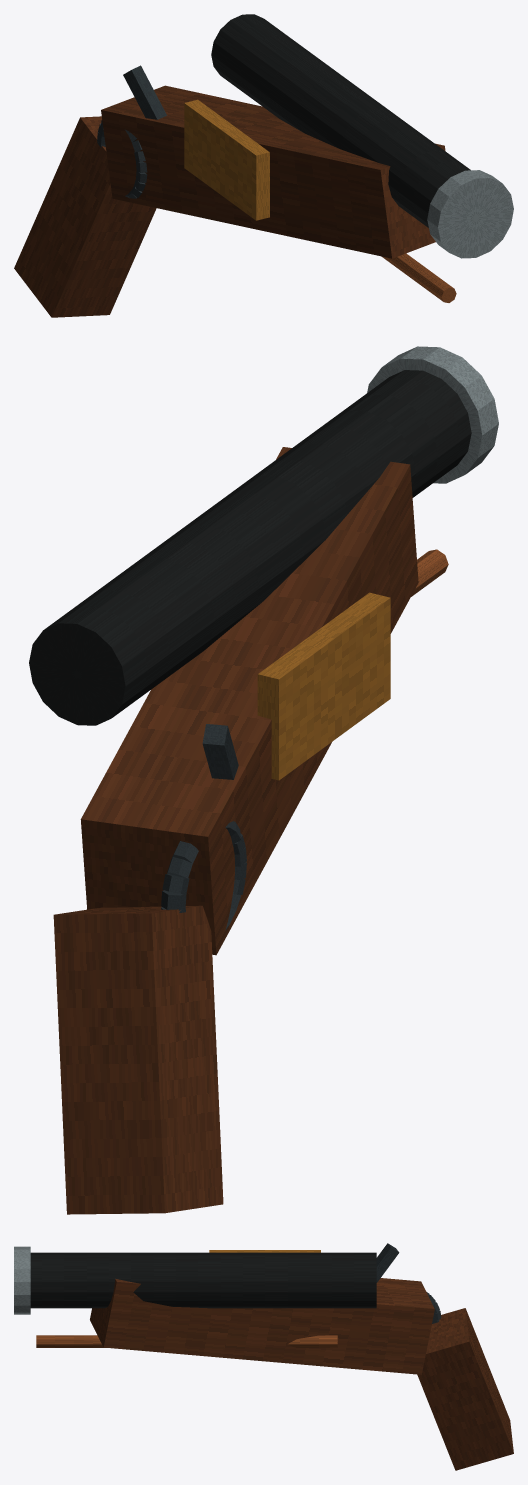
Rendered from SM_flintlock_pistol.gltf.
3 views of the same model, one above another, from view 1: azimuth 30°, elevation 25°; view 2: azimuth 150°, elevation 25°; view 3: azimuth 270°, elevation 25° (orthographic). The views are drawn at different scales.
Visible parts, largest first — view 1: root; view 2: root; view 3: root.
Part boxes in pixels (<box>): root: <box>14,14,513,317</box>; root: <box>29,346,498,1214</box>; root: <box>14,1243,513,1470</box>.
Bounding box in the file's own units: 0.2899 × 0.4984 × 0.8958.
Materials: 6 (6 with a texture image).
